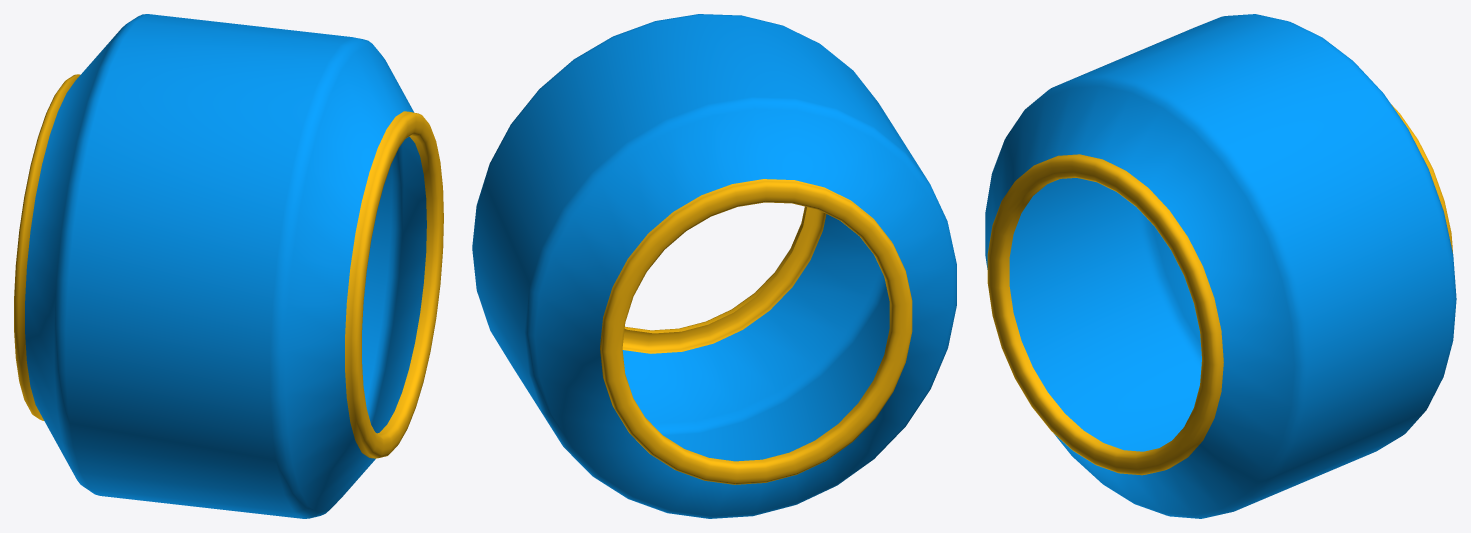
The model's file is 005-Fork1.FBX.
3 views of the same model, side by side, from view 1: azimuth 30°, elevation 25°; view 2: azimuth 150°, elevation 25°; view 3: azimuth 270°, elevation 25° (orthographic). The views are drawn at different scales.
Parts seen in each view (by area): view 1: 005-Fork1; view 2: 005-Fork1; view 3: 005-Fork1.
Boxes of the visible parts, bbox=[...] form: 005-Fork1: bbox=[14, 14, 443, 518]; 005-Fork1: bbox=[472, 14, 956, 518]; 005-Fork1: bbox=[985, 14, 1456, 518].
Bounding box in the file's own units: 43.27 × 42.79 × 43.27.
